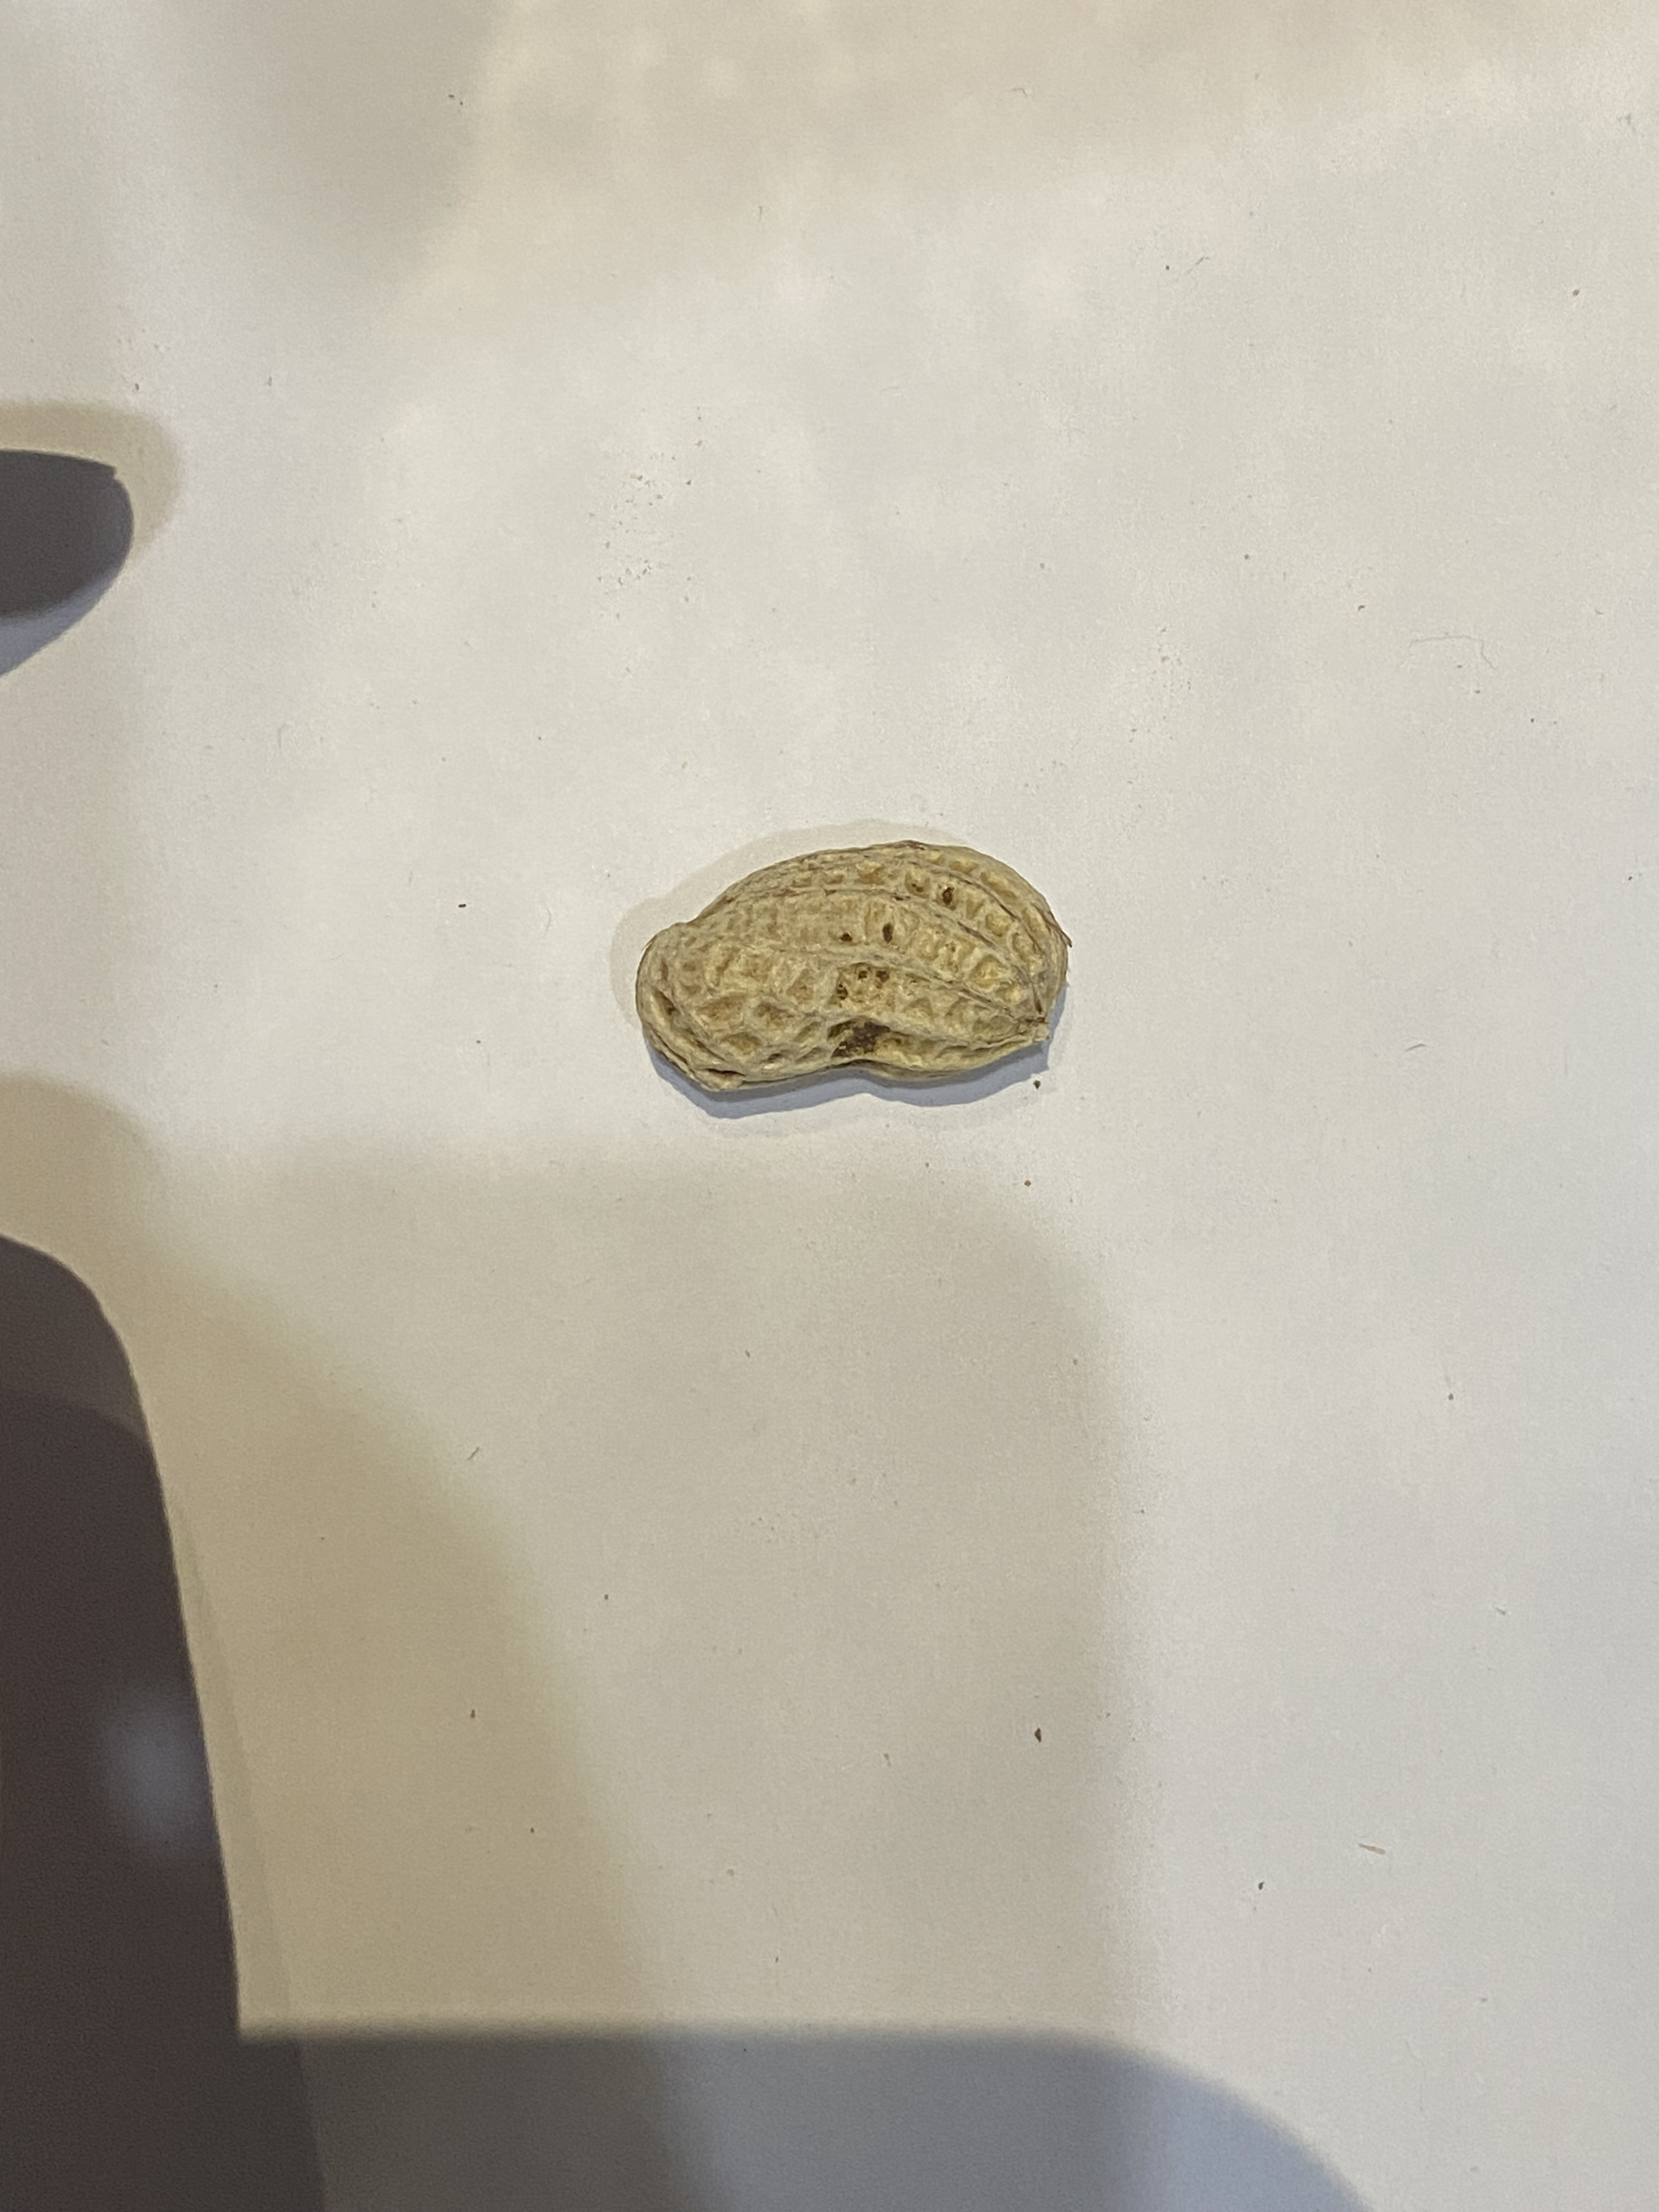kacang1: (598, 831, 1094, 1099)
